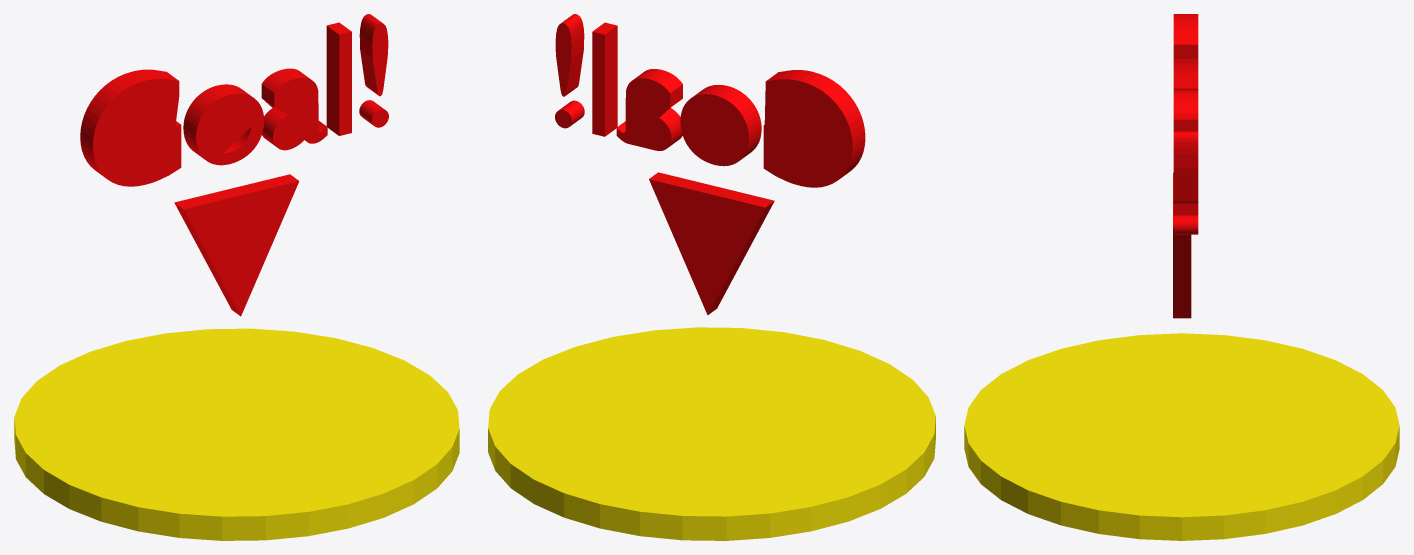
Rendered from Goal.fbx.
3 views of the same model, side by side, from view 1: azimuth 30°, elevation 25°; view 2: azimuth 150°, elevation 25°; view 3: azimuth 270°, elevation 25° (orthographic). The views are drawn at different scales.
Visible parts, largest first — view 1: Cube.002, Cube.001; view 2: Cube.002, Cube.001; view 3: Cube.002, Cube.001.
Boxes of the visible parts, x1=… form: Cube.002: x1=14, y1=328, x2=459, y2=540; Cube.001: x1=80, y1=14, x2=388, y2=316; Cube.002: x1=488, y1=327, x2=935, y2=540; Cube.001: x1=555, y1=14, x2=865, y2=314; Cube.002: x1=964, y1=333, x2=1399, y2=540; Cube.001: x1=1173, y1=14, x2=1198, y2=318.
Size of the model in its own units: 2 by 1.94 by 2.
